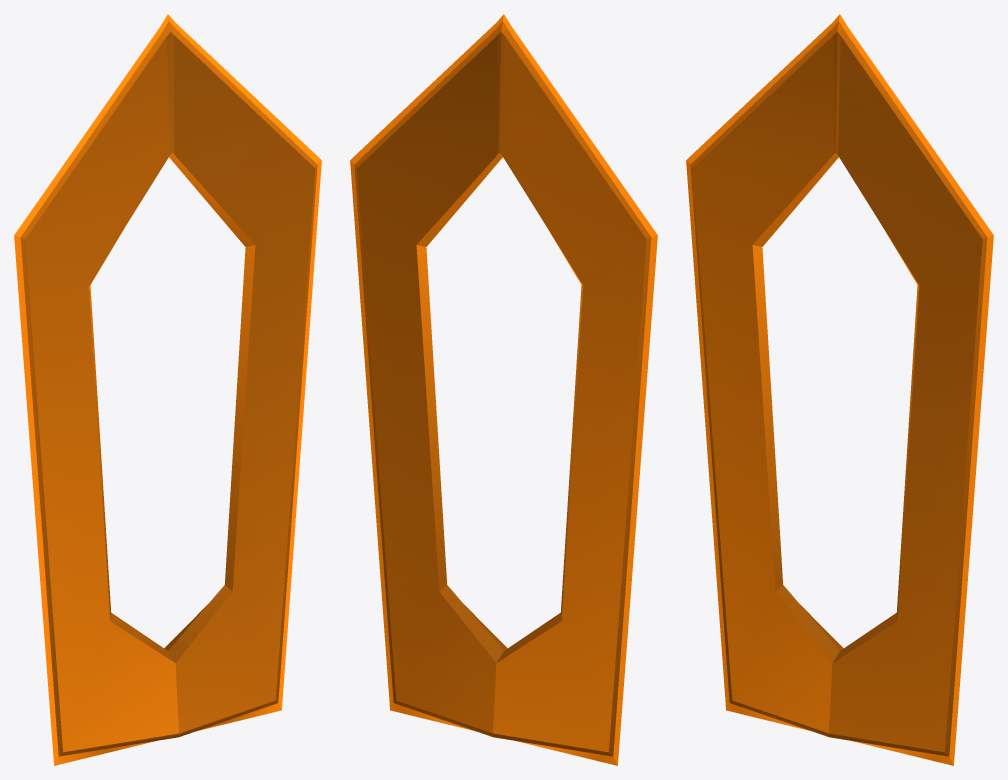
Rendered from bronze_blade (17).glb.
The picture shows the model from 3 angles, left to right: view 1: azimuth 30°, elevation 25°; view 2: azimuth 150°, elevation 25°; view 3: azimuth 330°, elevation 25°; orthographic projection.
Visible parts, largest first — view 1: bronze_blade_steel.026; view 2: bronze_blade_steel.026; view 3: bronze_blade_steel.026.
Part boxes in pixels (x1,y1,x2,y2): bronze_blade_steel.026: (14,14,321,765); bronze_blade_steel.026: (350,14,657,765); bronze_blade_steel.026: (686,14,993,765).
Bounding box in the file's own units: 5.08 × 11.42 × 0.6326.
1 material, 1 textured.
